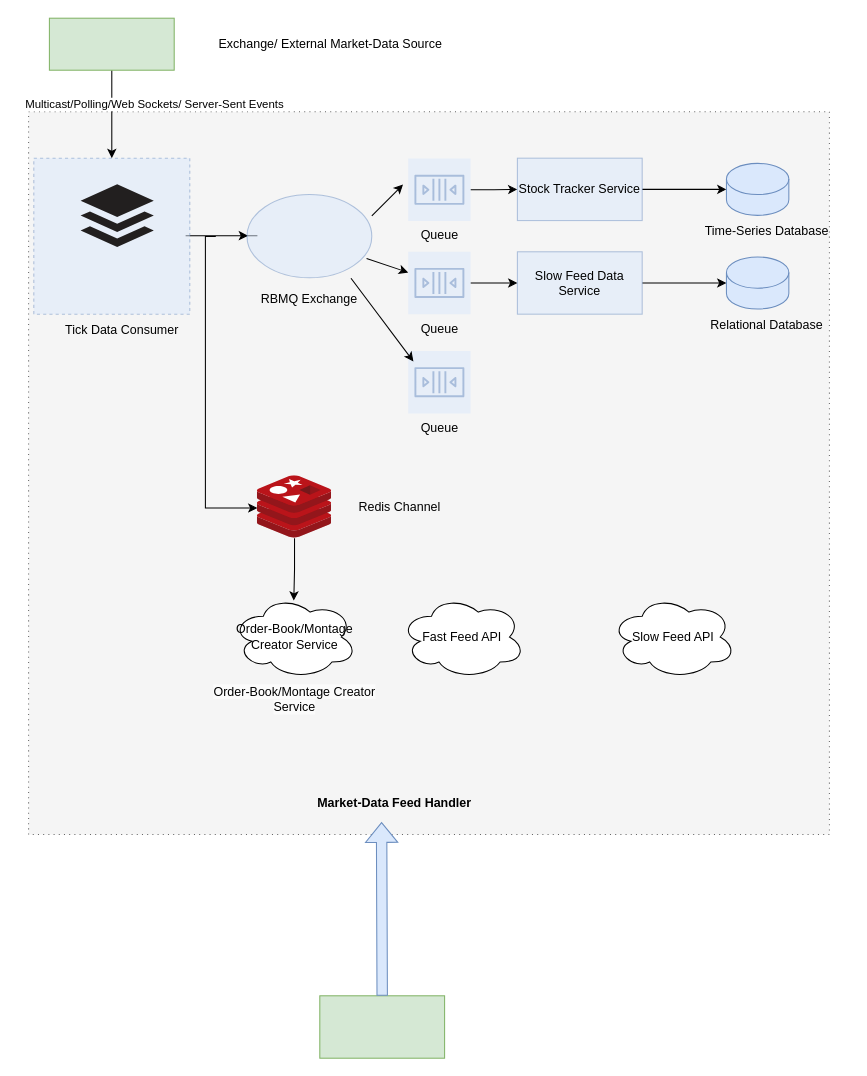
This 867x1076 diagram has some shape labels left out. The box of each missing label's shape, as (x1, y1, x2, y2) in pixels:
Downstream/Clients: (319, 995, 445, 1058)
Internal Buffer: (80, 184, 153, 246)
Pub/Sub Messaging Queues: (246, 194, 372, 278)
Upstream: (48, 17, 174, 70)
